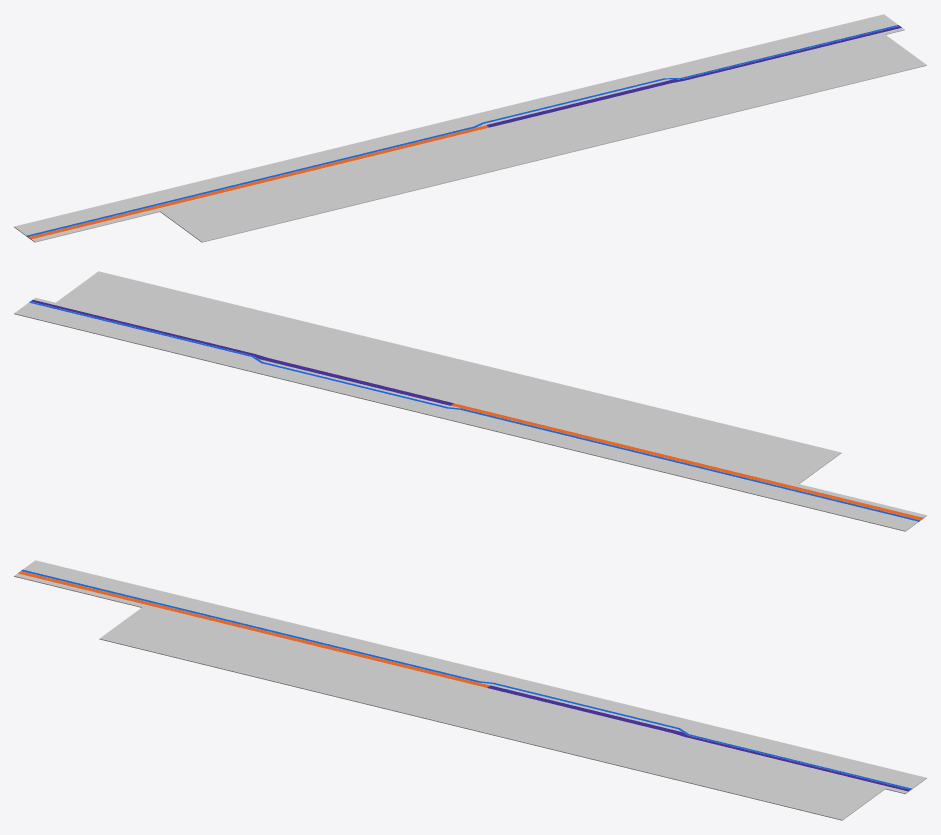
Rendered from floor.fbx.
The picture shows the model from 3 angles, top to bottom: view 1: azimuth 30°, elevation 25°; view 2: azimuth 150°, elevation 25°; view 3: azimuth 330°, elevation 25°; orthographic projection. The views are drawn at different scales.
Parts seen in each view (by area): view 1: Cube.269, Cube.268, Cube.450, Cube.273, Cube.259, Cube.261, Cube.270, Cube.272; view 2: Cube.269, Cube.268, Cube.450, Cube.259, Cube.273, Cube.261, Cube.270, Cube.272; view 3: Cube.269, Cube.268, Cube.450, Cube.273, Cube.259, Cube.261, Cube.270, Cube.272.
Boxes of the visible parts, <box> form: Cube.269: <box>181,50,926,242</box>; Cube.268: <box>160,34,905,226</box>; Cube.450: <box>14,173,251,242</box>; Cube.273: <box>667,14,904,82</box>; Cube.259: <box>232,120,469,188</box>; Cube.261: <box>485,76,650,126</box>; Cube.270: <box>449,111,505,135</box>; Cube.272: <box>630,67,686,91</box>; Cube.269: <box>77,271,841,468</box>; Cube.268: <box>56,287,819,483</box>; Cube.450: <box>682,461,926,531</box>; Cube.259: <box>459,406,703,477</box>; Cube.273: <box>14,297,257,368</box>; Cube.261: <box>274,361,443,413</box>; Cube.270: <box>422,397,480,422</box>; Cube.272: <box>237,352,294,377</box>; Cube.269: <box>99,623,863,820</box>; Cube.268: <box>121,607,884,804</box>; Cube.450: <box>14,560,257,630</box>; Cube.273: <box>683,723,926,794</box>; Cube.259: <box>237,614,480,684</box>; Cube.261: <box>497,678,666,729</box>; Cube.270: <box>460,669,517,693</box>; Cube.272: <box>646,714,703,738</box>.
Size of the model in its own units: 24000 by 20 by 3000.
5 materials, 5 textured.
